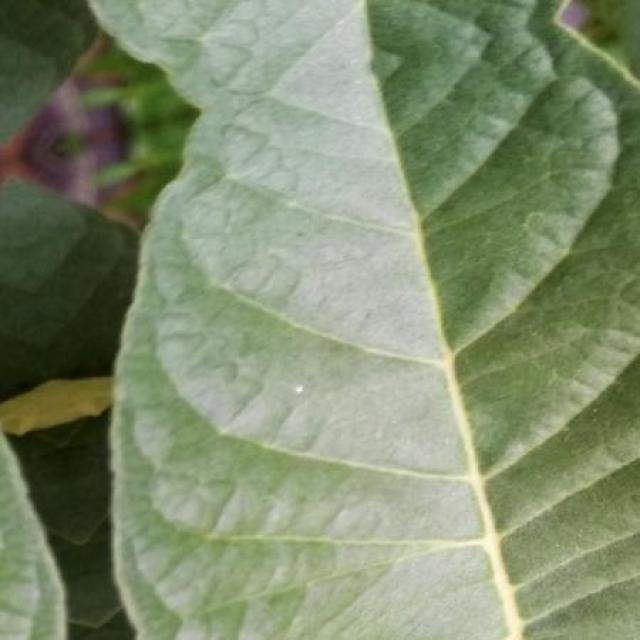Disease Free: (92, 0, 640, 640), (0, 184, 136, 399), (9, 414, 132, 639), (0, 432, 65, 639)
